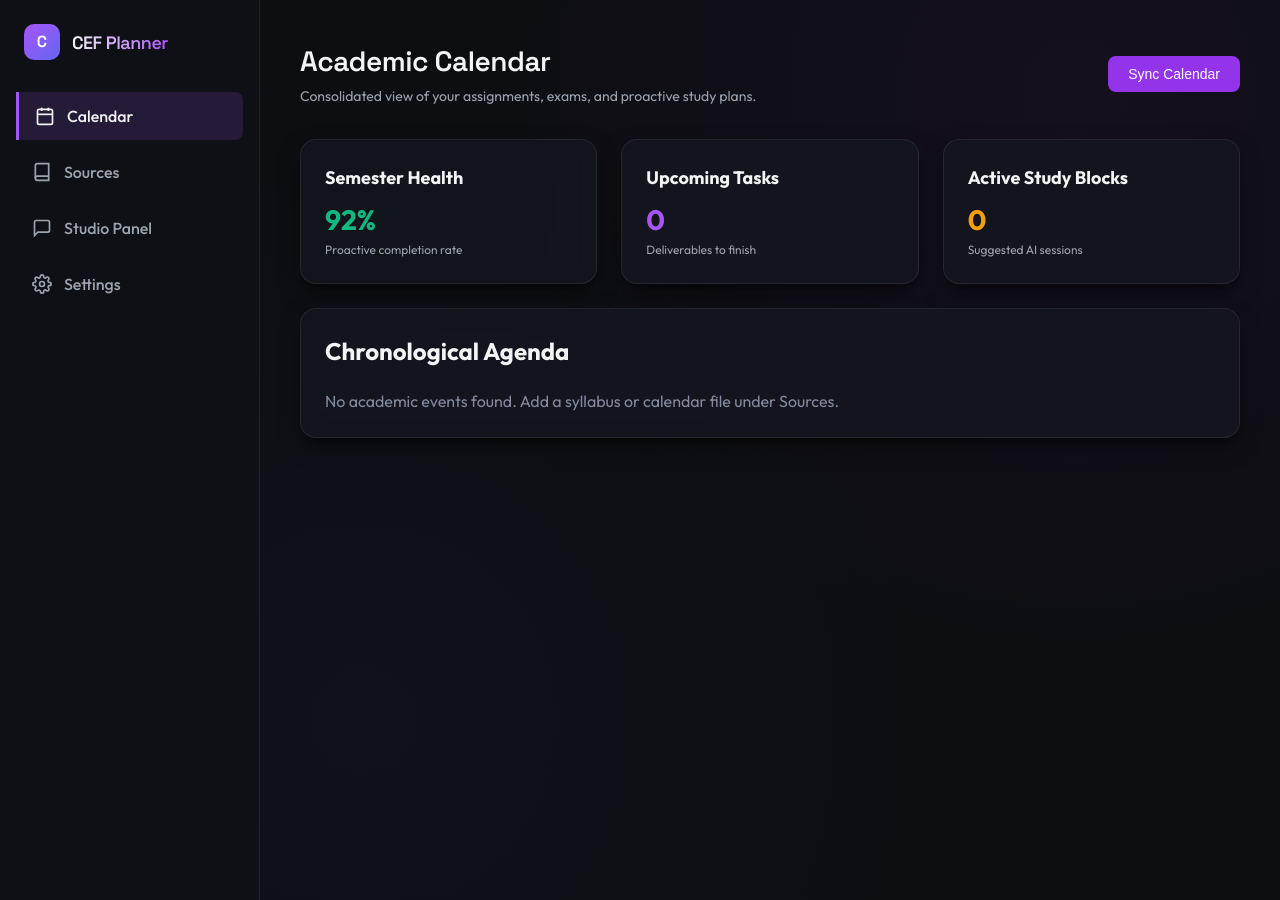
it: Settings — default rendered state › has no axe violations
The width and height of the screenshot is (1280, 900).
Expected: the heading "Academic Calendar" is shown, [300,43,551,79]
Click the button "Settings" at (130, 284), box [16,260,243,308]
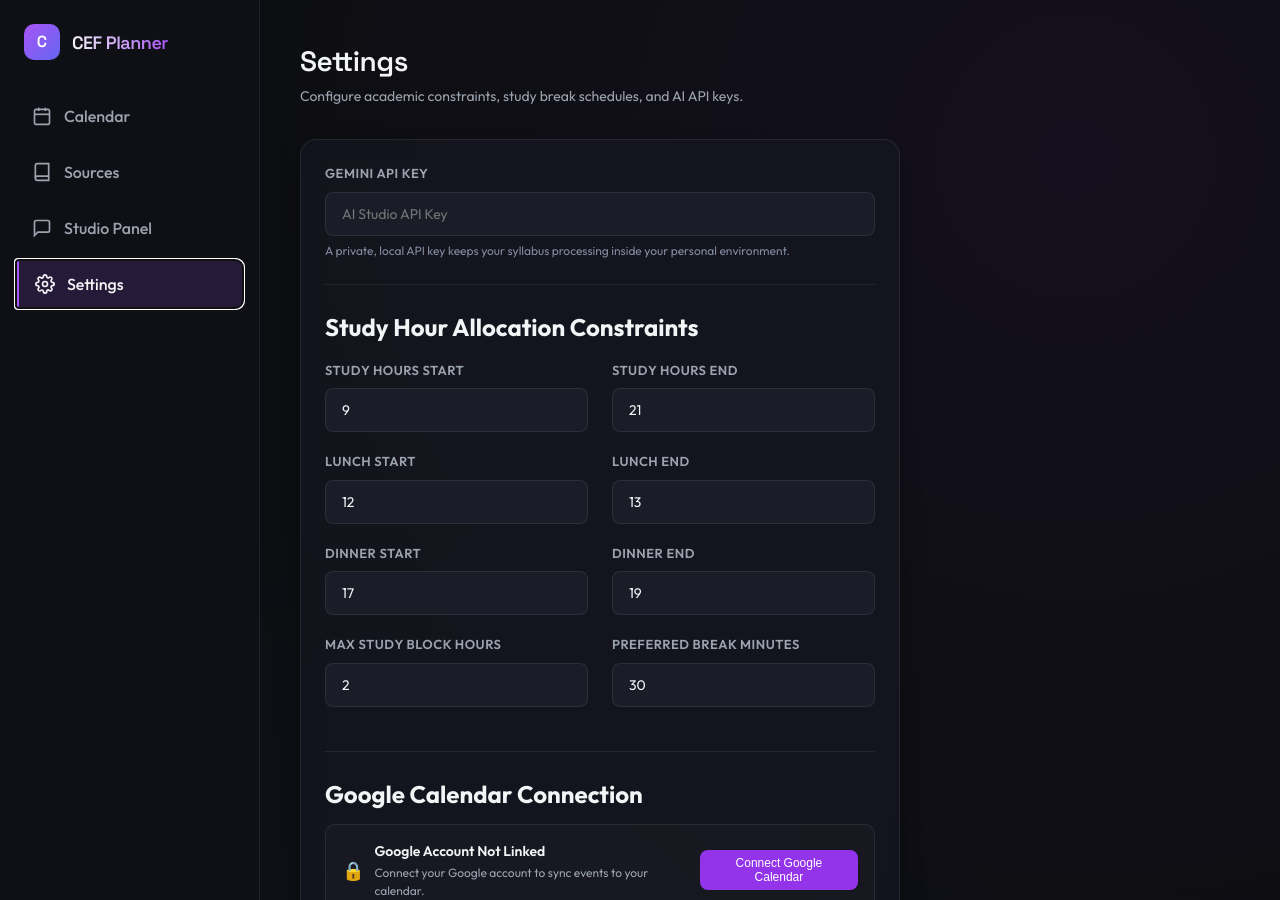
Expected: the heading "Settings" is shown, [300,43,408,79]
